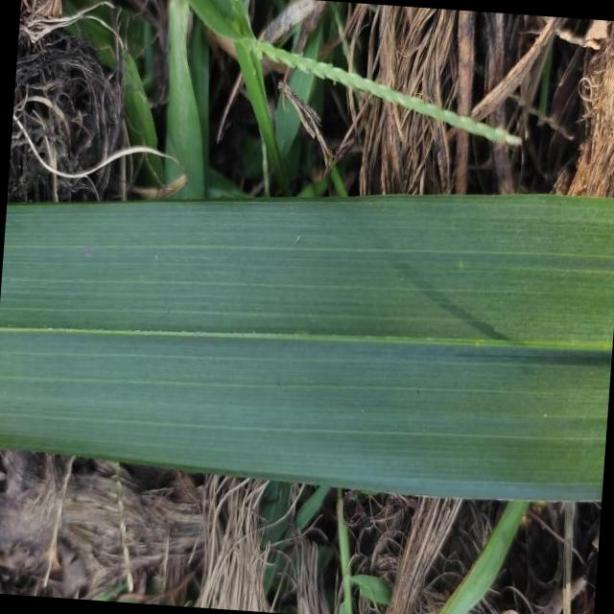Healthy: (3, 195, 614, 502)
